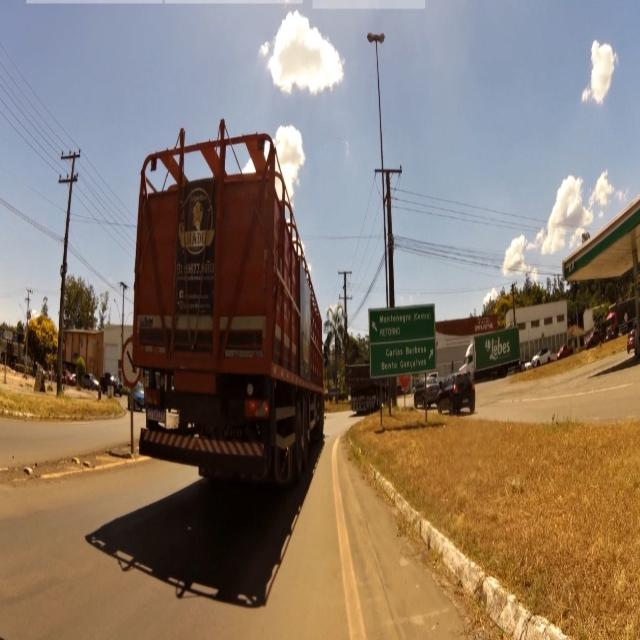I-4: (369, 310, 437, 370)
R-24b: (123, 345, 140, 383)
